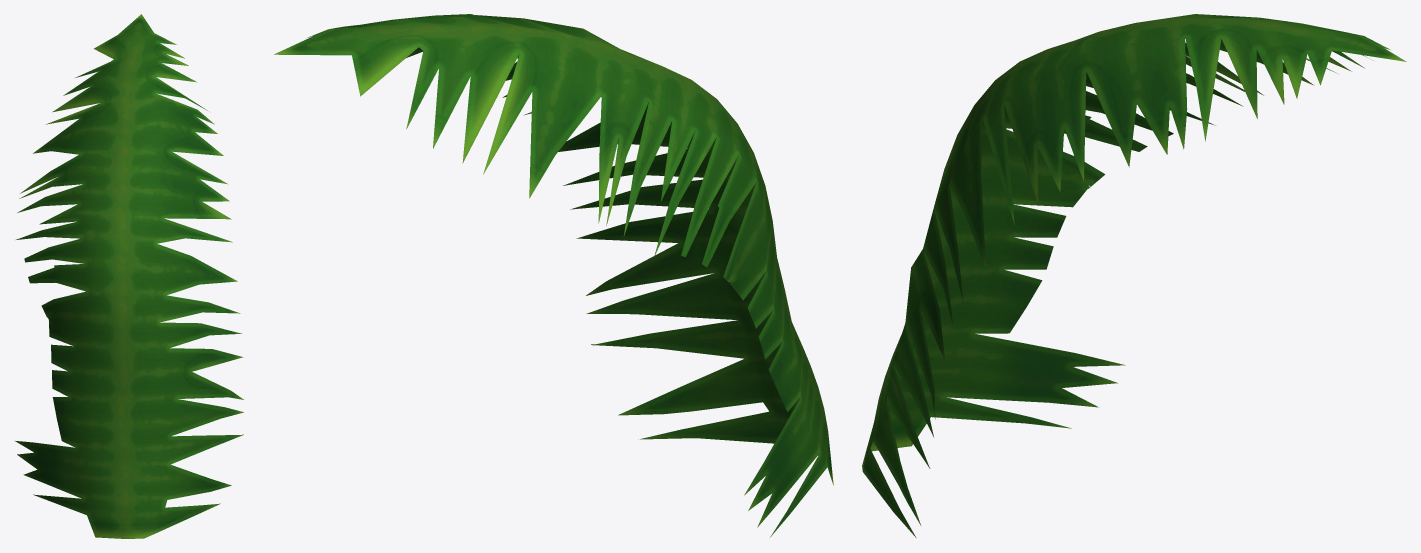
File: palm_leaves_palm_leaves_0_0012.obj
3 views of the same model, side by side, from view 1: azimuth 30°, elevation 25°; view 2: azimuth 150°, elevation 25°; view 3: azimuth 270°, elevation 25° (orthographic). The views are drawn at different scales.
Visible parts, largest first — view 1: palm_leaves_palm_leaves_0.012; view 2: palm_leaves_palm_leaves_0.012; view 3: palm_leaves_palm_leaves_0.012.
Part boxes in pixels (x1,y1,x2,y2): palm_leaves_palm_leaves_0.012: (15, 14, 243, 538); palm_leaves_palm_leaves_0.012: (274, 14, 833, 537); palm_leaves_palm_leaves_0.012: (862, 14, 1406, 537).
Size of the model in its own units: 13.66 by 20.42 by 18.55.
